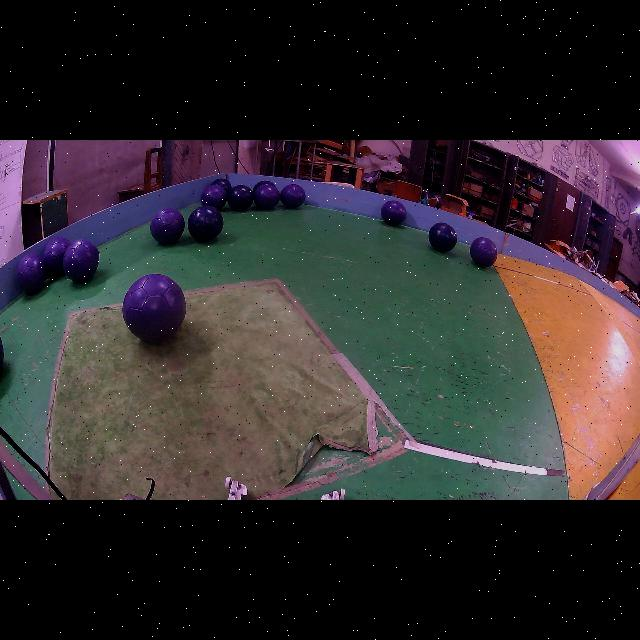B: (188, 205, 224, 241), (429, 222, 458, 252), (211, 179, 231, 192)
P: (122, 274, 186, 344), (62, 239, 99, 282), (150, 208, 185, 244), (16, 254, 46, 295), (44, 238, 70, 276), (470, 238, 498, 268), (254, 184, 280, 210), (228, 185, 254, 211), (201, 185, 228, 210), (381, 200, 406, 226), (280, 184, 306, 209)
